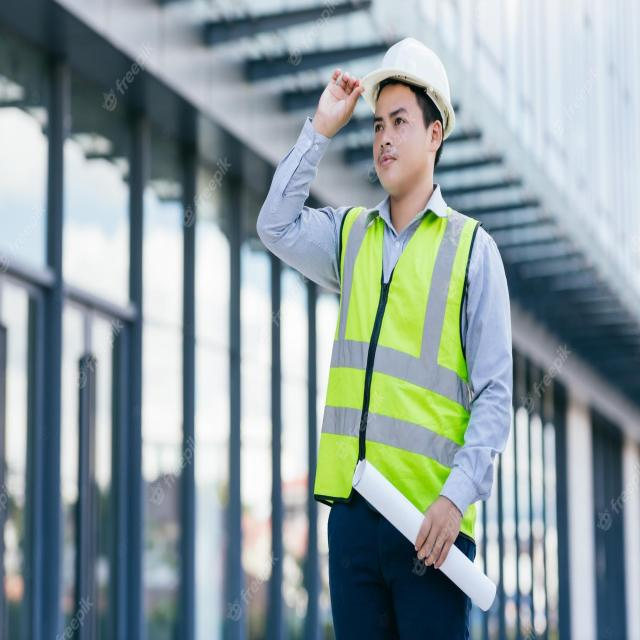helmet: (359, 34, 456, 146)
no-goggles: (366, 105, 416, 141)
vest: (312, 202, 484, 551)
